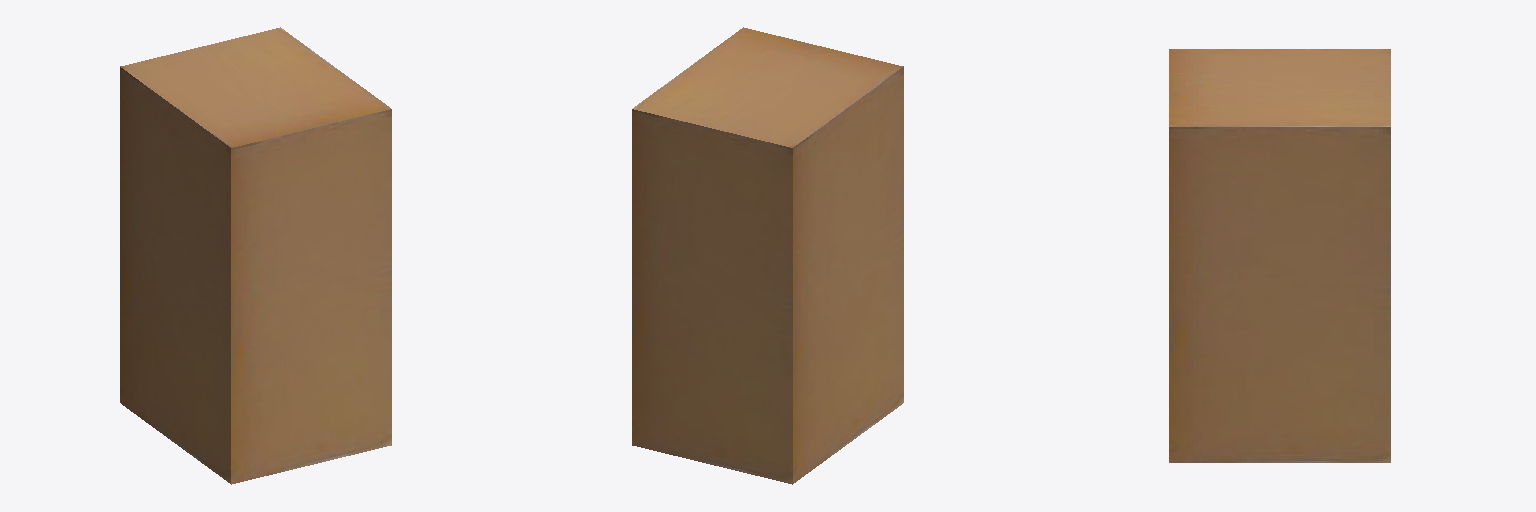
3 renders of one model, left to right at view 1: azimuth 30°, elevation 25°; view 2: azimuth 150°, elevation 25°; view 3: azimuth 270°, elevation 25°, orthographic.
Parts seen in each view (by area): view 1: Cube.001_Cube.002; view 2: Cube.001_Cube.002; view 3: Cube.001_Cube.002.
Boxes of the visible parts, box(x1,y1,x2,y2) form: Cube.001_Cube.002: box(120, 27, 391, 484); Cube.001_Cube.002: box(632, 27, 903, 484); Cube.001_Cube.002: box(1169, 49, 1390, 462).
Bounding box in the file's own units: 1 × 2 × 1.2.
Materials: 1 (1 with a texture image).